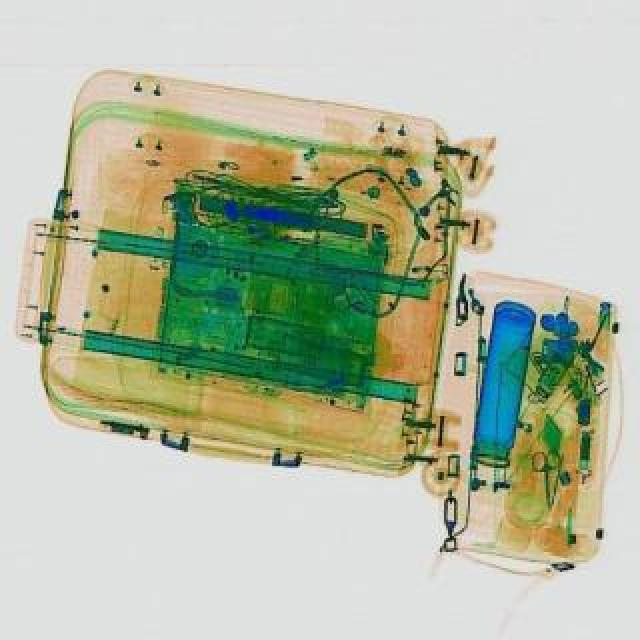pliers: (532, 448, 560, 508)
